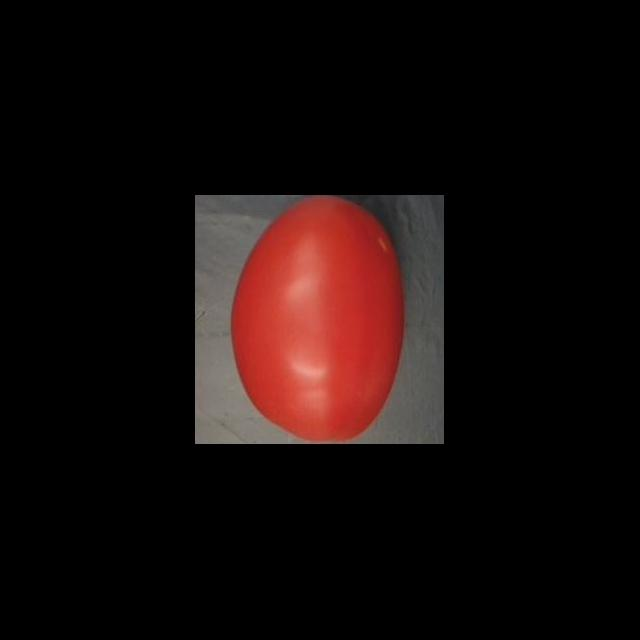tomato: (224, 196, 408, 444)
